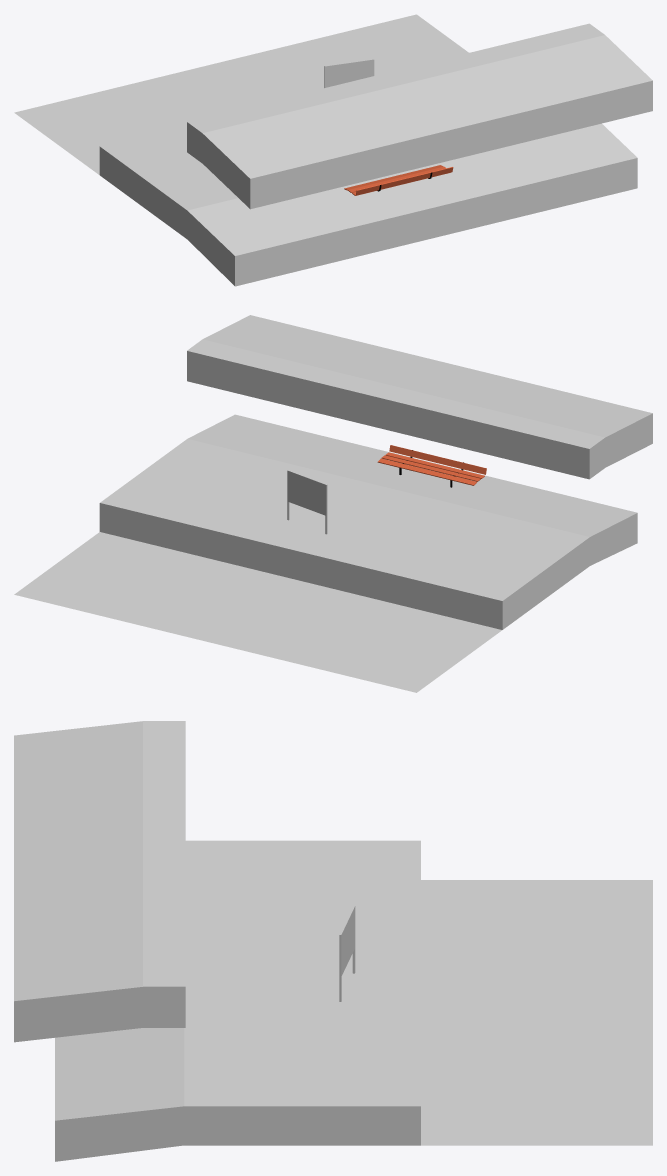
File: Station.fbx
The picture shows the model from 3 angles, top to bottom: view 1: azimuth 30°, elevation 25°; view 2: azimuth 150°, elevation 25°; view 3: azimuth 270°, elevation 25°; orthographic projection. The views are drawn at different scales.
Parts seen in each view (by area): view 1: Floor, Ceiling, BenchP1, Sign; view 2: Floor, Ceiling, BenchP1, Sign; view 3: Floor, Ceiling, Sign.
Boxes of the visible parts, x1=… form: Floor: x1=14, y1=14, x2=637, y2=286; Ceiling: x1=187, y1=23, x2=652, y2=209; BenchP1: x1=344, y1=165, x2=453, y2=195; Sign: x1=324, y1=59, x2=374, y2=87; Floor: x1=14, y1=414, x2=637, y2=692; Ceiling: x1=187, y1=315, x2=652, y2=479; BenchP1: x1=377, y1=445, x2=486, y2=485; Sign: x1=287, y1=470, x2=327, y2=534; Floor: x1=55, y1=840, x2=652, y2=1161; Ceiling: x1=14, y1=721, x2=185, y2=1042; Sign: x1=339, y1=905, x2=355, y2=1001.
Bounding box in the file's own units: 2281 × 701 × 2318.
